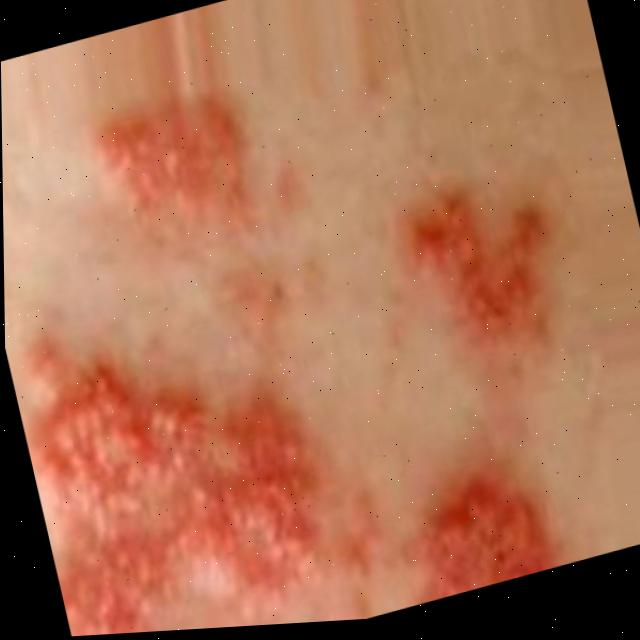Shingles: (5, 268, 399, 640), (76, 72, 273, 265), (391, 166, 571, 370), (394, 462, 562, 605)
